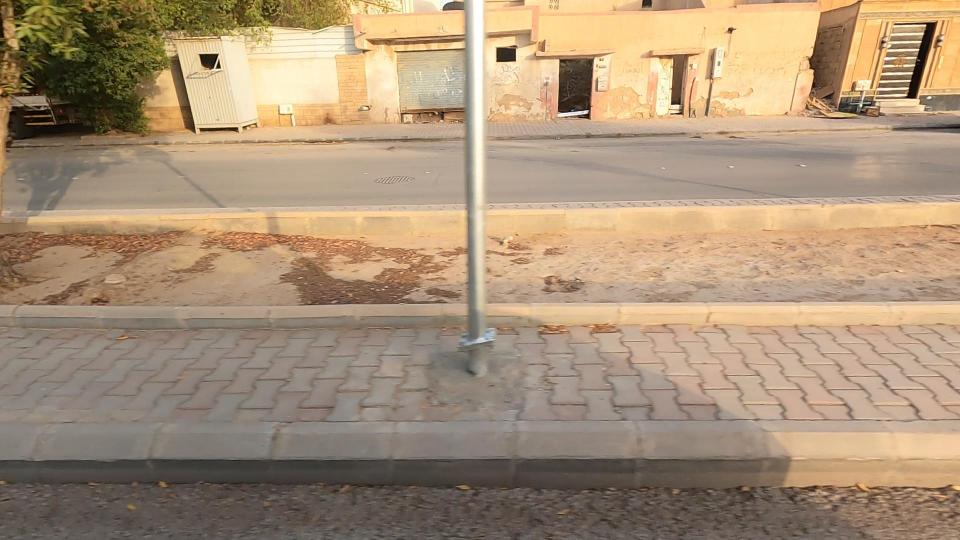CLUTTER_SIDEWALK: (396, 179, 960, 350), (0, 174, 519, 350)
